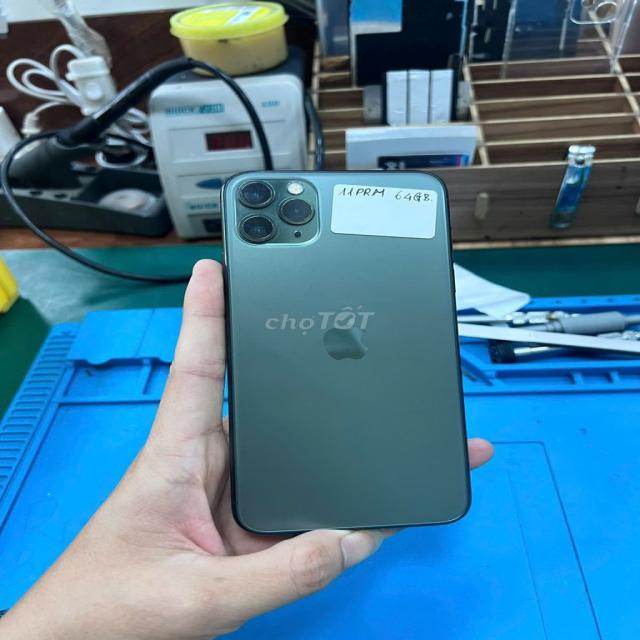scratch: (233, 174, 317, 243)
